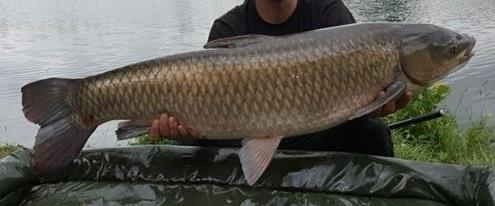Grass Carp: (22, 21, 476, 190)
